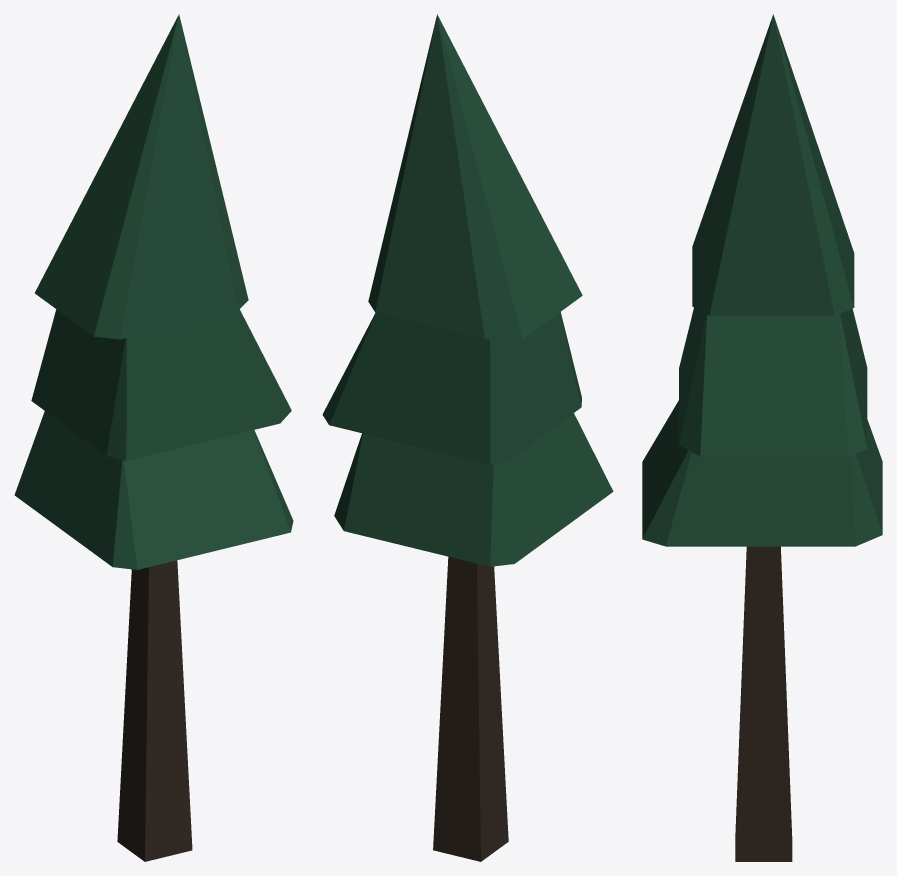
File: rn_pine_a.glb
3 views of the same model, side by side, from view 1: azimuth 30°, elevation 25°; view 2: azimuth 150°, elevation 25°; view 3: azimuth 270°, elevation 25° (orthographic). The views are drawn at different scales.
Parts seen in each view (by area): view 1: rn_pine_a; view 2: rn_pine_a; view 3: rn_pine_a.
Part boxes in pixels (box(x1,y1,x2,y2)): rn_pine_a: box(14, 14, 293, 861); rn_pine_a: box(322, 14, 613, 861); rn_pine_a: box(642, 14, 882, 861).
Size of the model in its own units: 1.89 by 7.5 by 1.92.
